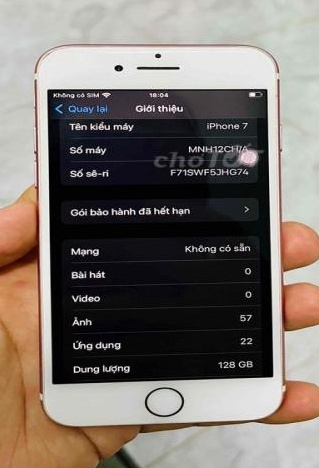scratch: (34, 48, 66, 65)
